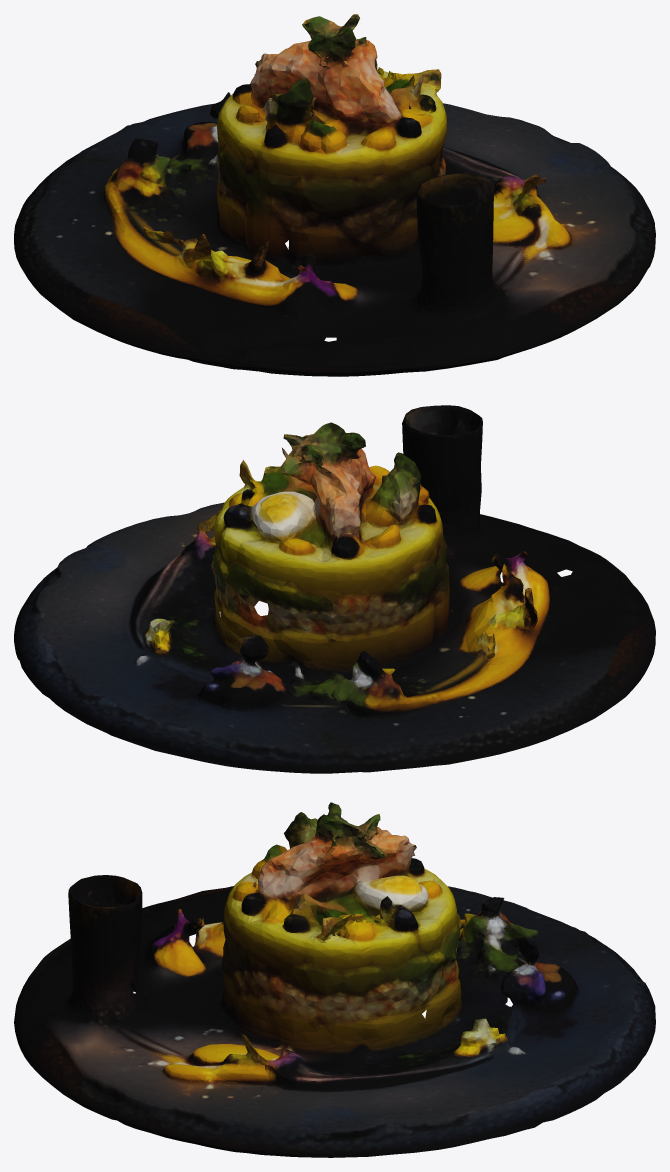
File: causa-limena.glb
3 views of the same model, one above another, from view 1: azimuth 30°, elevation 25°; view 2: azimuth 150°, elevation 25°; view 3: azimuth 270°, elevation 25° (orthographic).
Parts seen in each view (by area): view 1: world; view 2: world; view 3: world.
Boxes of the visible parts, x1=… form: world: x1=14, y1=14, x2=655, y2=376; world: x1=14, y1=405, x2=655, y2=773; world: x1=14, y1=802, x2=655, y2=1157.
Bounding box in the file's own units: 1 × 0.3677 × 1.
1 material, 1 textured.
